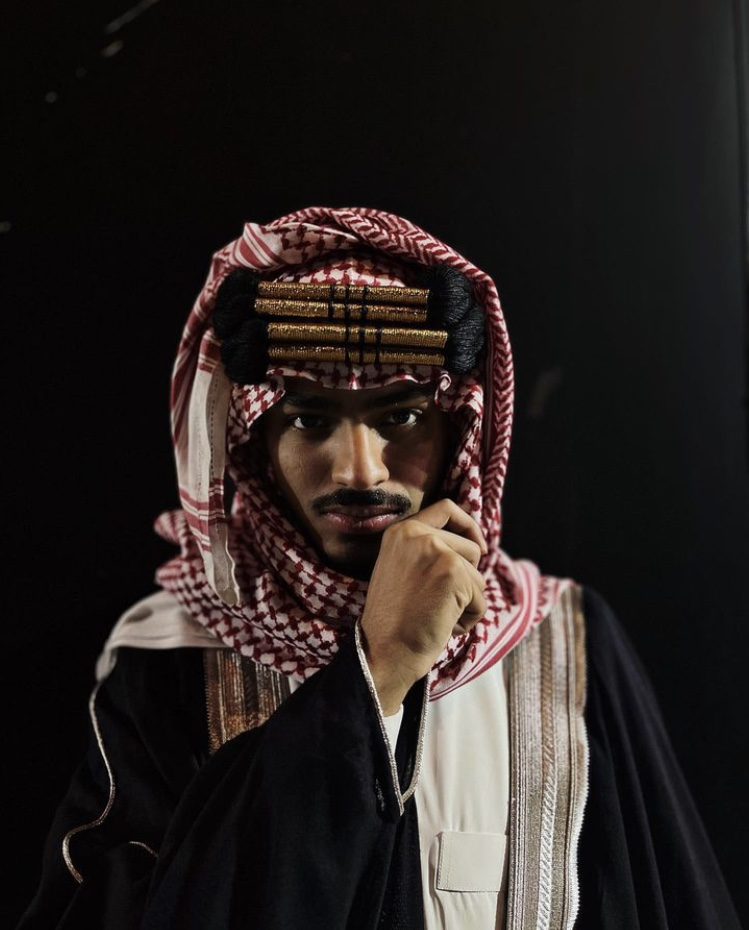Saudi_Founding_Day: (20, 202, 744, 930)
